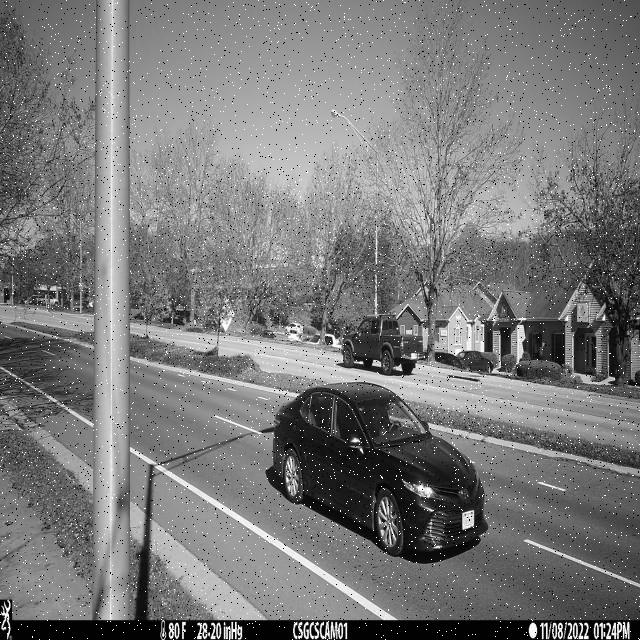Sedan: (272, 382, 489, 557)
